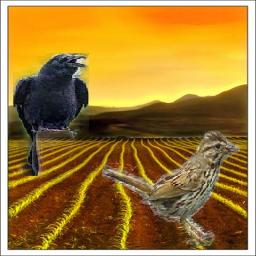Crow: (13, 54, 89, 177)
Sparrow: (102, 130, 242, 247)
